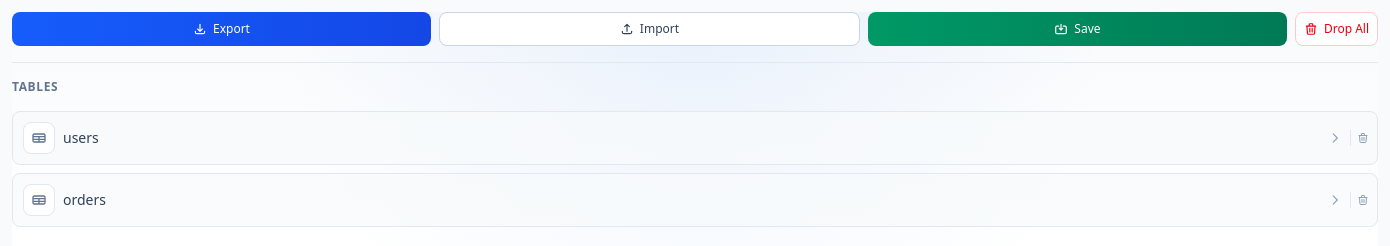
Test case: TableList › destructive operations › shows confirmation for per-table delete
The width and height of the screenshot is (1390, 246).
Click the button named "Delete users table": (1363, 138) 1355,130 -> 1371,146
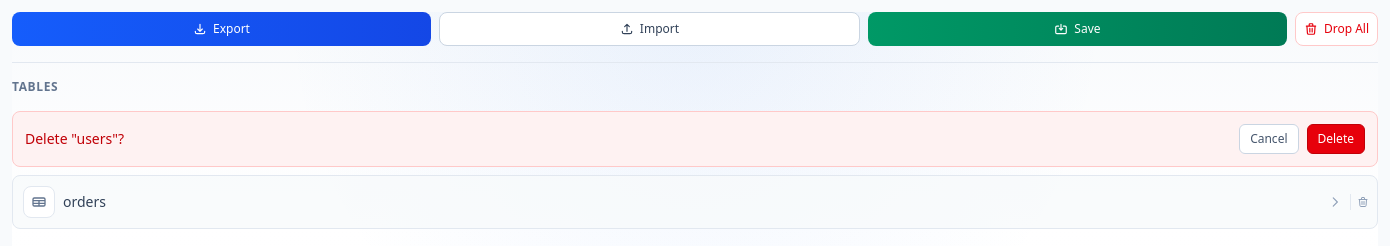
Result: the text "Delete \"users\"?" is shown at 25,129 -> 124,148
